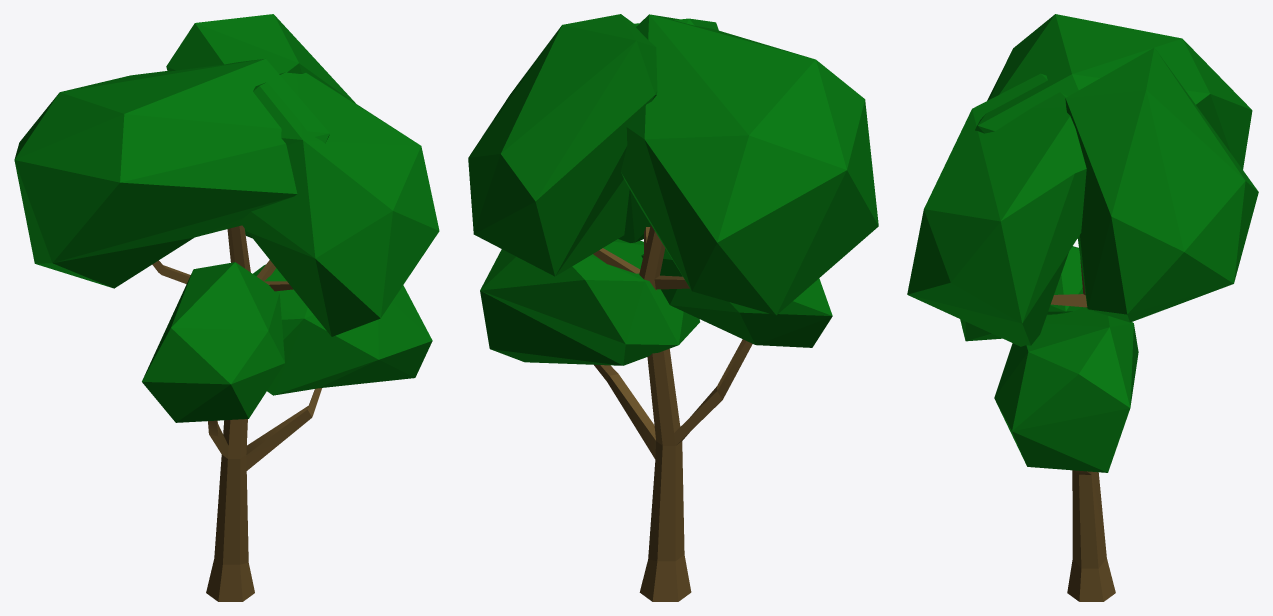
Rendered from Tree-05.fbx.
3 renders of one model, left to right at view 1: azimuth 30°, elevation 25°; view 2: azimuth 150°, elevation 25°; view 3: azimuth 270°, elevation 25°, orthographic. The views are drawn at different scales.
Visible parts, largest first — view 1: Tree-05; view 2: Tree-05; view 3: Tree-05.
Boxes of the visible parts, left/top/right/bottom form: Tree-05: left=14, top=14, right=439, bottom=601; Tree-05: left=468, top=14, right=878, bottom=601; Tree-05: left=907, top=14, right=1258, bottom=601.
Size of what is drawn, in the model's own units: 4.17 by 6.13 by 3.59.
